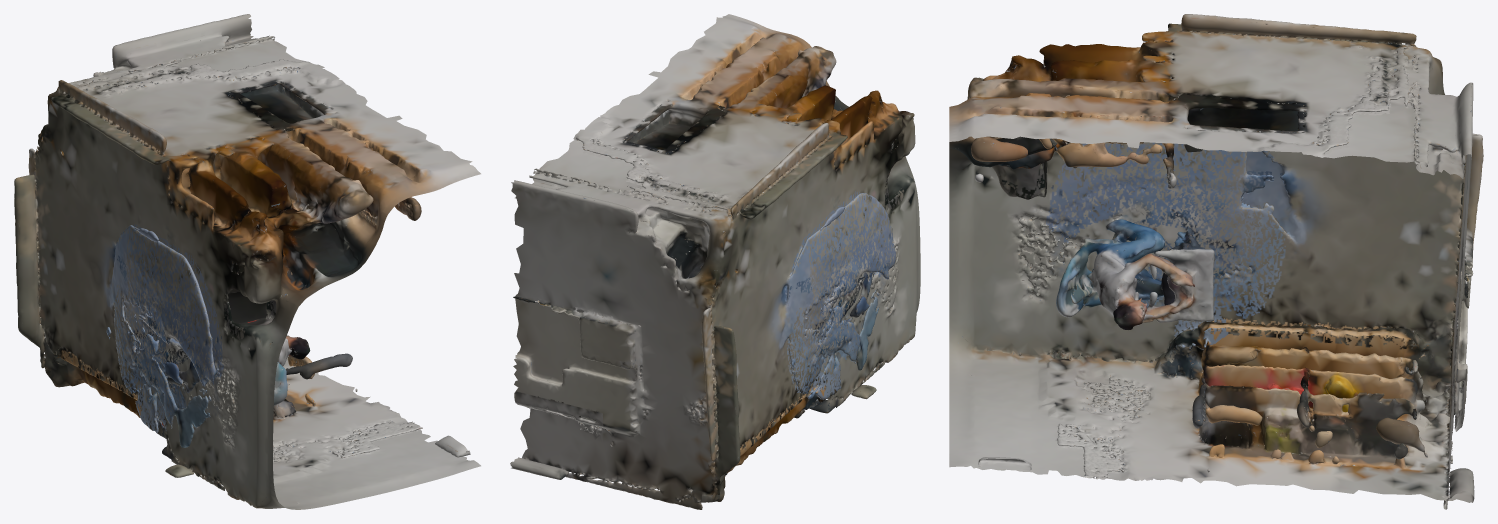
The picture shows the model from 3 angles, left to right: view 1: azimuth 30°, elevation 25°; view 2: azimuth 150°, elevation 25°; view 3: azimuth 270°, elevation 25°; orthographic projection. The views are drawn at different scales.
Visible parts, largest first — view 1: answering_questions_88; view 2: answering_questions_88; view 3: answering_questions_88.
Part boxes in pixels (x1,y1,x2,y2): answering_questions_88: [14, 14, 480, 509]; answering_questions_88: [510, 14, 920, 509]; answering_questions_88: [949, 14, 1483, 509].
Size of the model in its own units: 2.38 by 3.23 by 4.11.
1 material, 1 textured.
